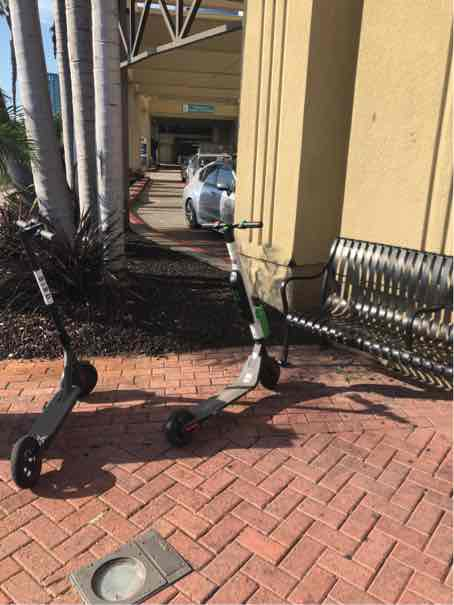scooter: (168, 229, 289, 452)
